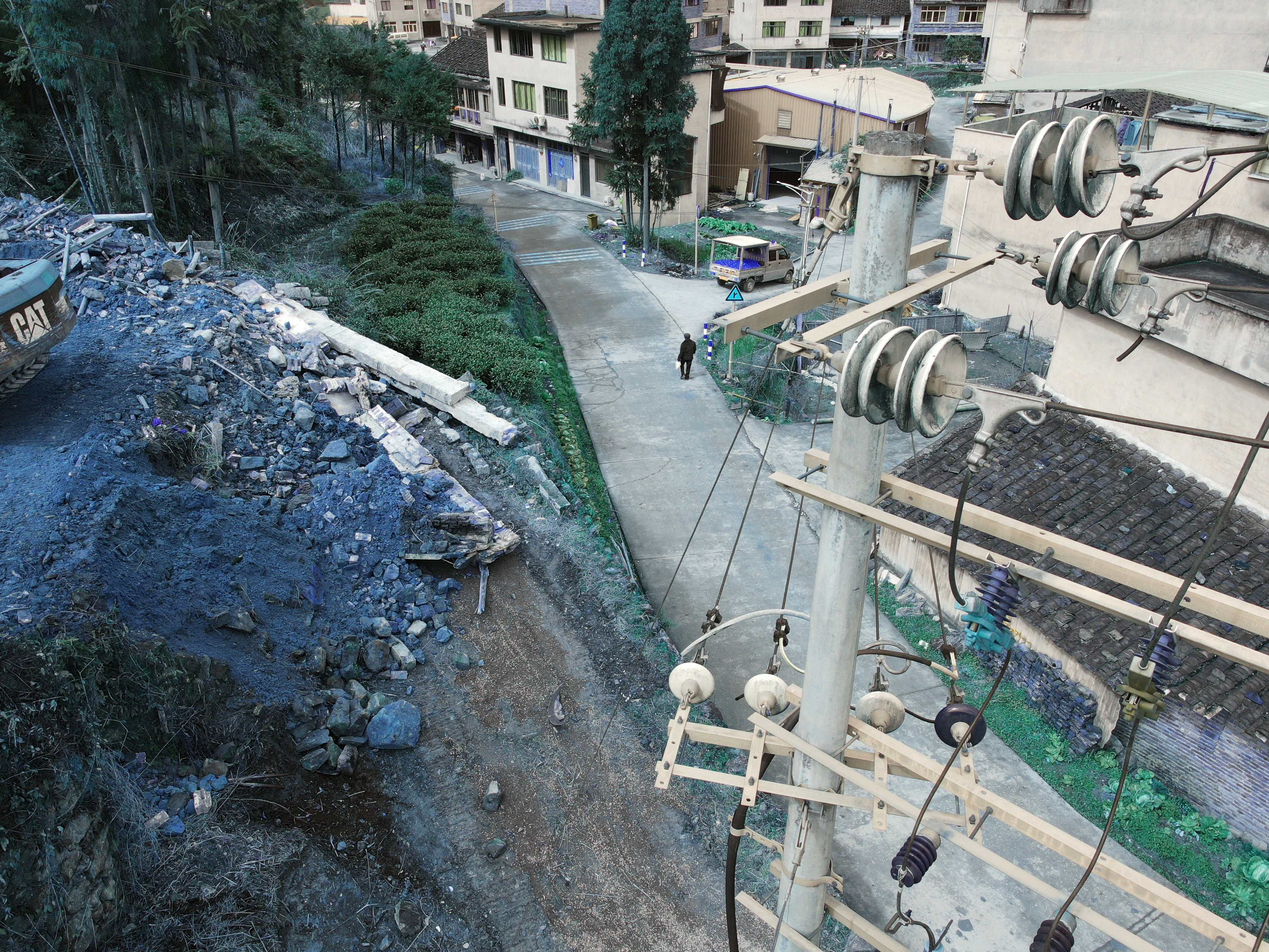severe_soiling_no_discharge_whole: (827, 318, 970, 437), (988, 113, 1123, 221), (1035, 228, 1141, 315), (667, 660, 716, 705), (741, 673, 791, 717), (856, 691, 905, 732)
